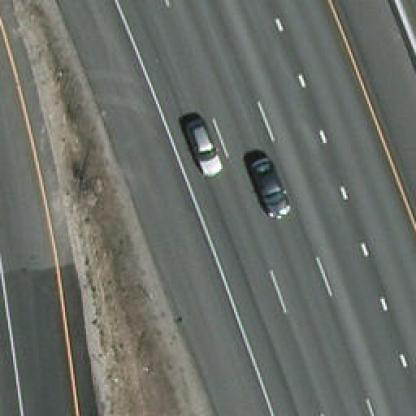car: (247, 154, 293, 220), (180, 114, 221, 174)
